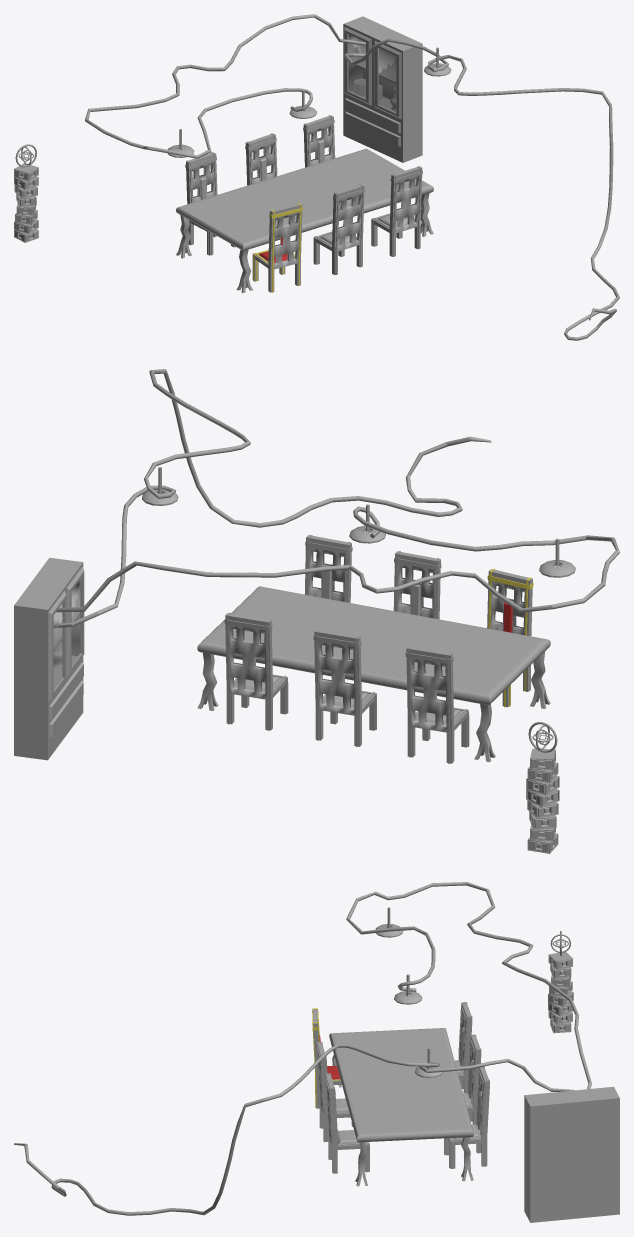
Rendered from DiningRoom_Models.fbx.
3 renders of one model, top to bottom at view 1: azimuth 30°, elevation 25°; view 2: azimuth 150°, elevation 25°; view 3: azimuth 270°, elevation 25°, orthographic. The views are drawn at different scales.
Visible parts, largest first — view 1: Table, Cabinet, CabinetVine_1, CabinetVine_2, Chair, Chair2, Chair1, Chair5, Chair3, Chair4, GlassPane_2, GlassPane_1; view 2: Table, Cabinet, CabinetVine_1, CabinetVine_2, Chair5, Chair3, Chair4, Chair, Chair1, Chair2, GlassPane_1; view 3: Table, Cabinet, CabinetVine_1, CabinetVine_2, Chair3, Chair2, Chair1, Chair5, Chair4, Chair.
Boxes of the visible parts, left/top/right/bottom form: Table: left=176, top=148, right=433, bottom=293; Cabinet: left=343, top=16, right=422, bottom=162; CabinetVine_1: left=344, top=38, right=619, bottom=340; CabinetVine_2: left=85, top=14, right=365, bottom=158; Chair: left=252, top=203, right=302, bottom=292; Chair2: left=371, top=166, right=422, bottom=256; Chair1: left=313, top=184, right=364, bottom=275; Chair5: left=185, top=152, right=235, bottom=255; Chair3: left=303, top=115, right=335, bottom=167; Chair4: left=245, top=133, right=277, bottom=185; GlassPane_2: left=378, top=58, right=396, bottom=112; GlassPane_1: left=348, top=37, right=365, bottom=98; Table: left=197, top=586, right=550, bottom=762; Cabinet: left=14, top=557, right=84, bottom=760; CabinetVine_1: left=53, top=369, right=491, bottom=628; CabinetVine_2: left=56, top=506, right=619, bottom=612; Chair5: left=405, top=645, right=469, bottom=763; Chair3: left=224, top=612, right=288, bottom=730; Chair4: left=313, top=629, right=376, bottom=746; Chair: left=487, top=568, right=533, bottom=707; Chair1: left=393, top=551, right=441, bottom=619; Chair2: left=304, top=534, right=352, bottom=602; GlassPane_1: left=53, top=617, right=63, bottom=689; Table: left=329, top=1028, right=473, bottom=1186; Cabinet: left=524, top=1086, right=619, bottom=1222; CabinetVine_1: left=14, top=1044, right=573, bottom=1215; CabinetVine_2: left=346, top=882, right=591, bottom=1089; Chair3: left=444, top=1066, right=489, bottom=1168; Chair2: left=325, top=1073, right=369, bottom=1173; Chair1: left=316, top=1042, right=352, bottom=1142; Chair5: left=454, top=1002, right=472, bottom=1092; Chair4: left=463, top=1034, right=481, bottom=1124; Chair: left=312, top=1008, right=341, bottom=1108.
Bounding box in the file's own units: 292 × 94.71 × 330.
